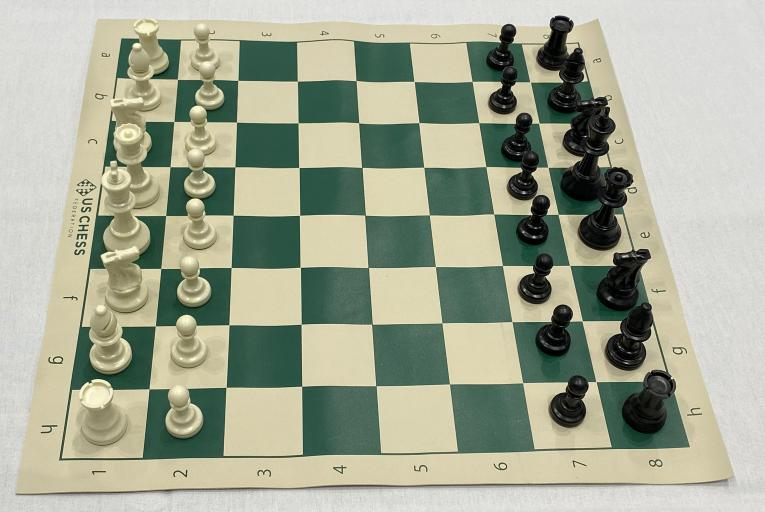black-bishop: (606, 303, 656, 370), (551, 46, 590, 115)
black-king: (562, 111, 619, 203)
black-knight: (596, 248, 654, 309), (562, 96, 613, 158)
black-pawn: (530, 303, 578, 360), (548, 376, 593, 433), (514, 253, 556, 305), (513, 196, 553, 247), (507, 153, 544, 203), (502, 112, 538, 163), (486, 23, 518, 74), (490, 67, 522, 116)
black-queen: (579, 164, 636, 253)
black-rook: (622, 371, 680, 437), (535, 11, 576, 74)
white-bishop: (85, 305, 136, 376), (122, 43, 164, 112)
white-king: (97, 159, 152, 259)
white-knight: (98, 246, 149, 314), (108, 96, 157, 155)
white-pawn: (159, 385, 208, 441), (167, 315, 209, 372), (180, 198, 220, 252), (174, 255, 214, 309), (182, 149, 220, 198), (191, 62, 226, 114), (182, 106, 217, 158), (188, 22, 222, 72)
white-queen: (112, 123, 161, 211)
white-rook: (75, 379, 129, 449), (131, 15, 172, 76)
